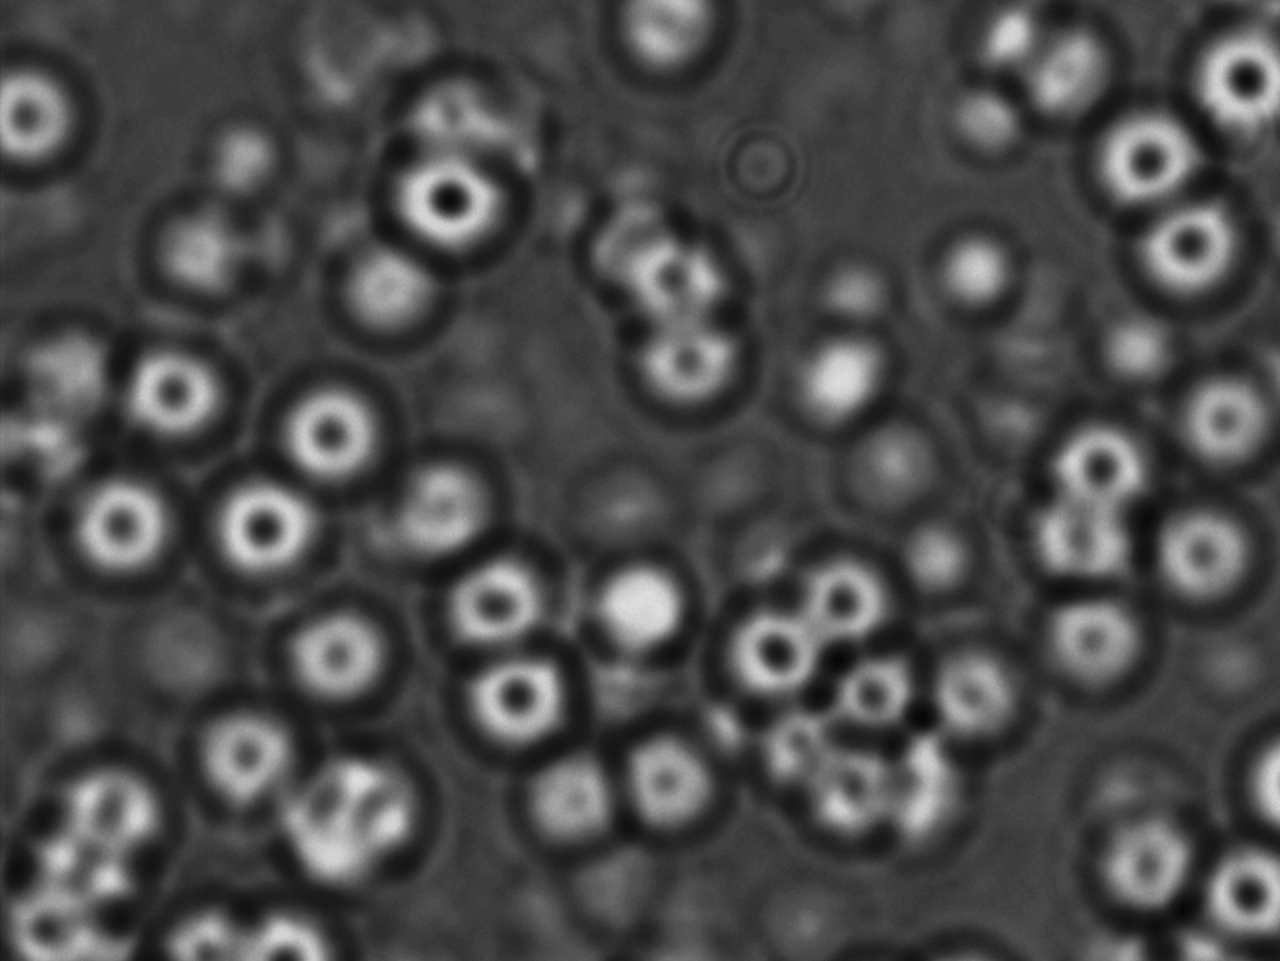depth:32: (46, 465, 191, 600), (1142, 477, 1273, 623), (704, 577, 836, 718), (1035, 407, 1169, 543), (1026, 575, 1160, 711), (380, 133, 519, 262), (787, 518, 920, 652), (626, 292, 754, 430), (122, 331, 252, 463), (178, 688, 309, 819), (212, 458, 345, 586), (906, 626, 1036, 757), (1123, 185, 1250, 313), (265, 368, 393, 492), (451, 641, 579, 763), (1085, 95, 1212, 216), (263, 588, 397, 703), (430, 540, 552, 660), (804, 627, 926, 747), (612, 722, 731, 837), (1165, 357, 1280, 472), (1177, 19, 1280, 140)
